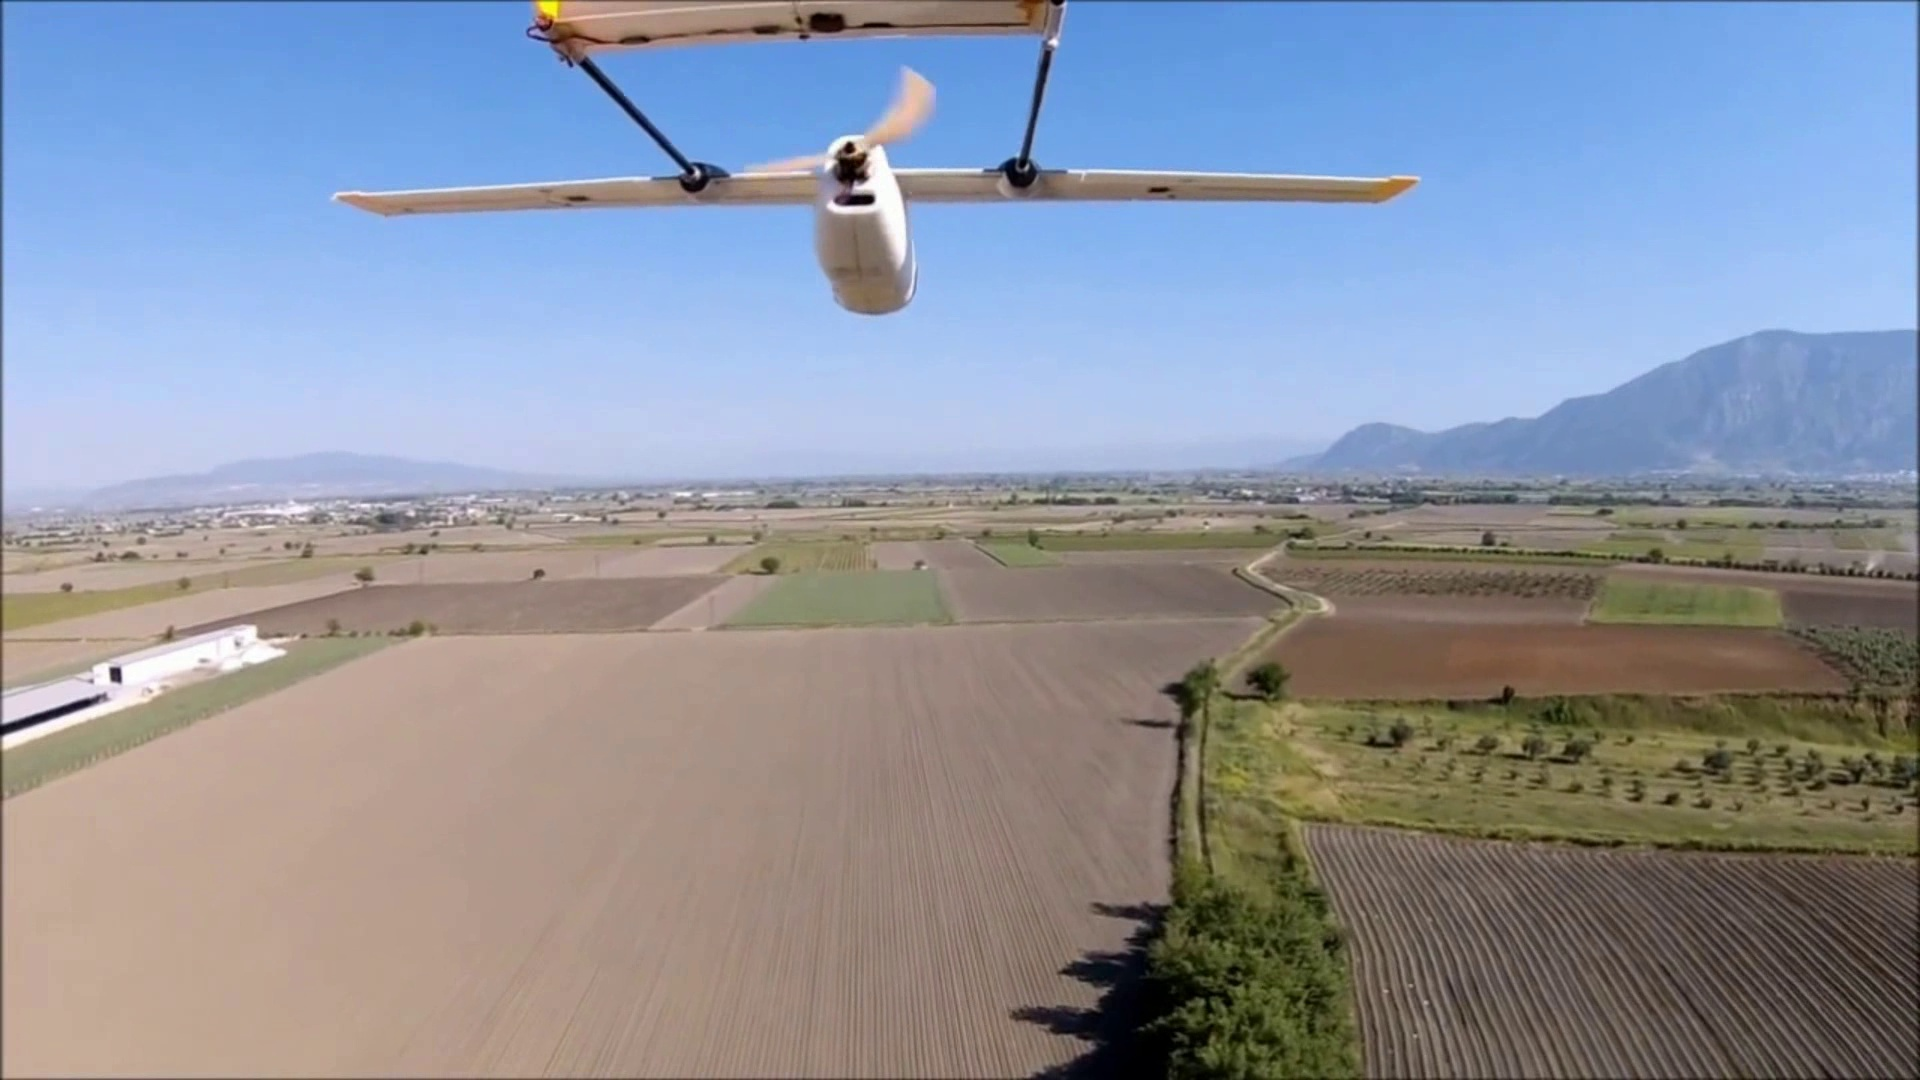airplane: (334, 3, 1418, 314)
